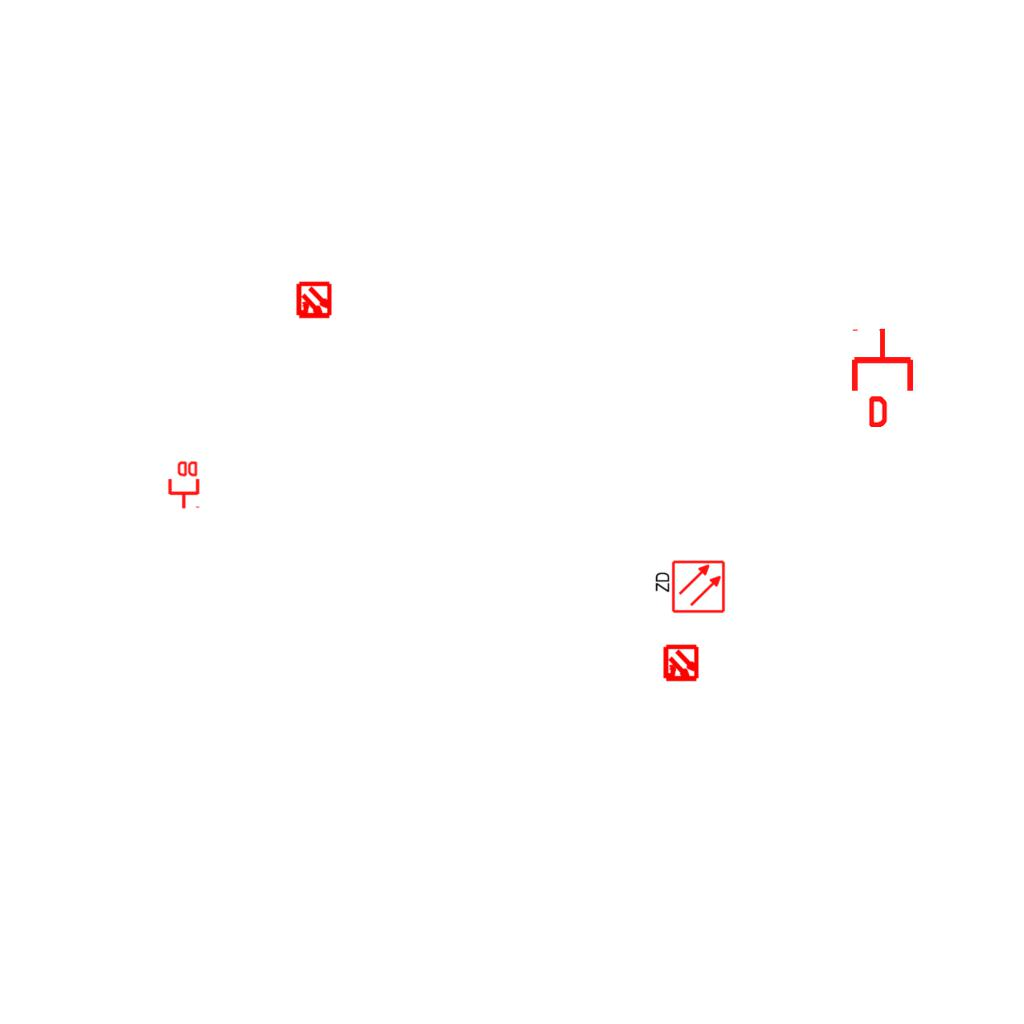Datenanschluss_einfach: (848, 327, 917, 427)
Datenanschluss_zweifach: (166, 459, 200, 510)
OT_Multisensormelder_(Kombination_RMO_WMD): (653, 636, 709, 692), (286, 273, 342, 329)
ZD_Melder_in_Zwischendecke_mit_Revisionsoeffnung_mind_40_x_40_cm: (652, 559, 726, 616)
